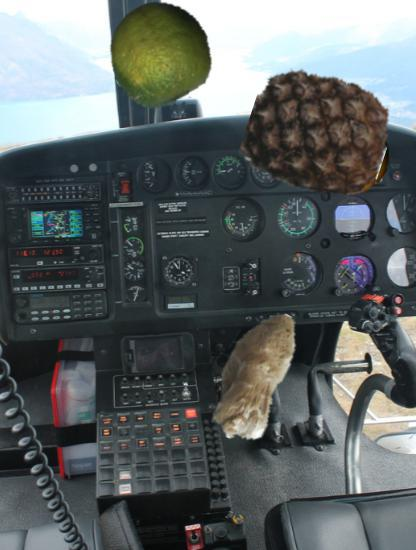Ginger: (188, 307, 326, 445)
Limes: (108, 1, 212, 105)
Papaya: (300, 103, 392, 195)
Pineapple: (248, 63, 389, 204)
